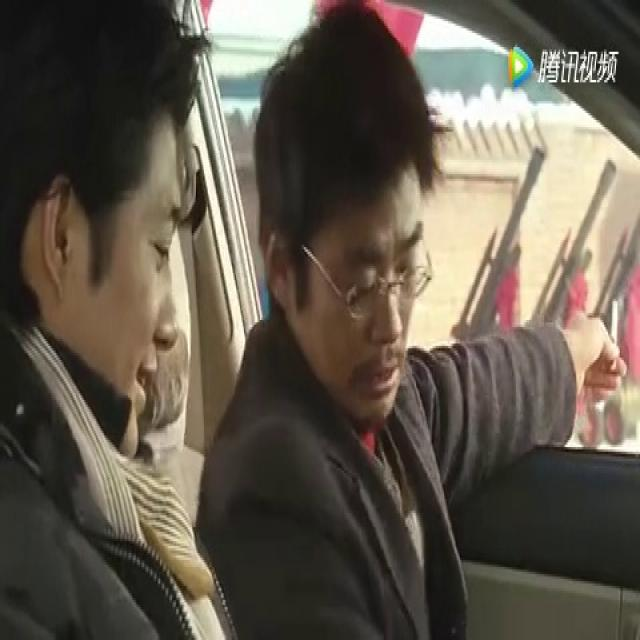smoking: (611, 293, 620, 369)
